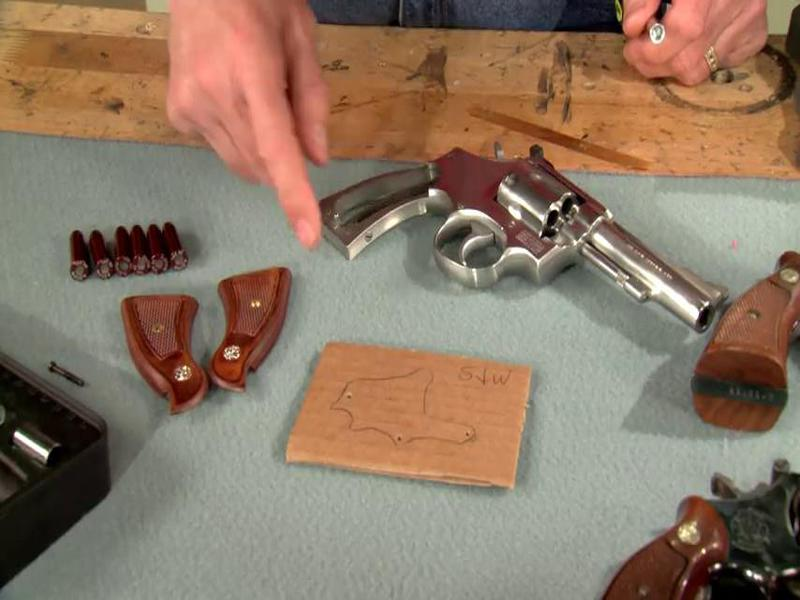Revolver: (282, 111, 722, 376)
